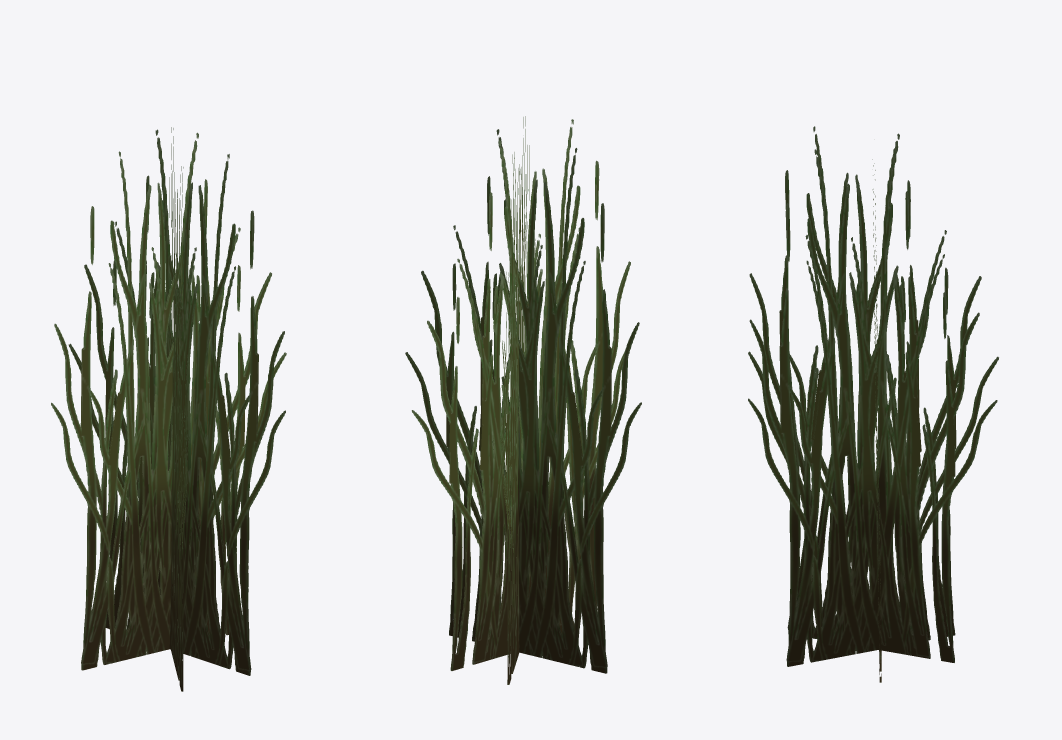
Rendered from vegetation_1_grass.fbx.
3 renders of one model, left to right at view 1: azimuth 30°, elevation 25°; view 2: azimuth 150°, elevation 25°; view 3: azimuth 270°, elevation 25°, orthographic.
Visible parts, largest first — view 1: pasted__polySurface3; view 2: pasted__polySurface3; view 3: pasted__polySurface3.
Part boxes in pixels (x1,y1,x2,y2): pasted__polySurface3: (51,127,286,691); pasted__polySurface3: (405,116,641,684); pasted__polySurface3: (748,126,998,682).
Bounding box in the file's own units: 7.15 × 12.3 × 6.73.
